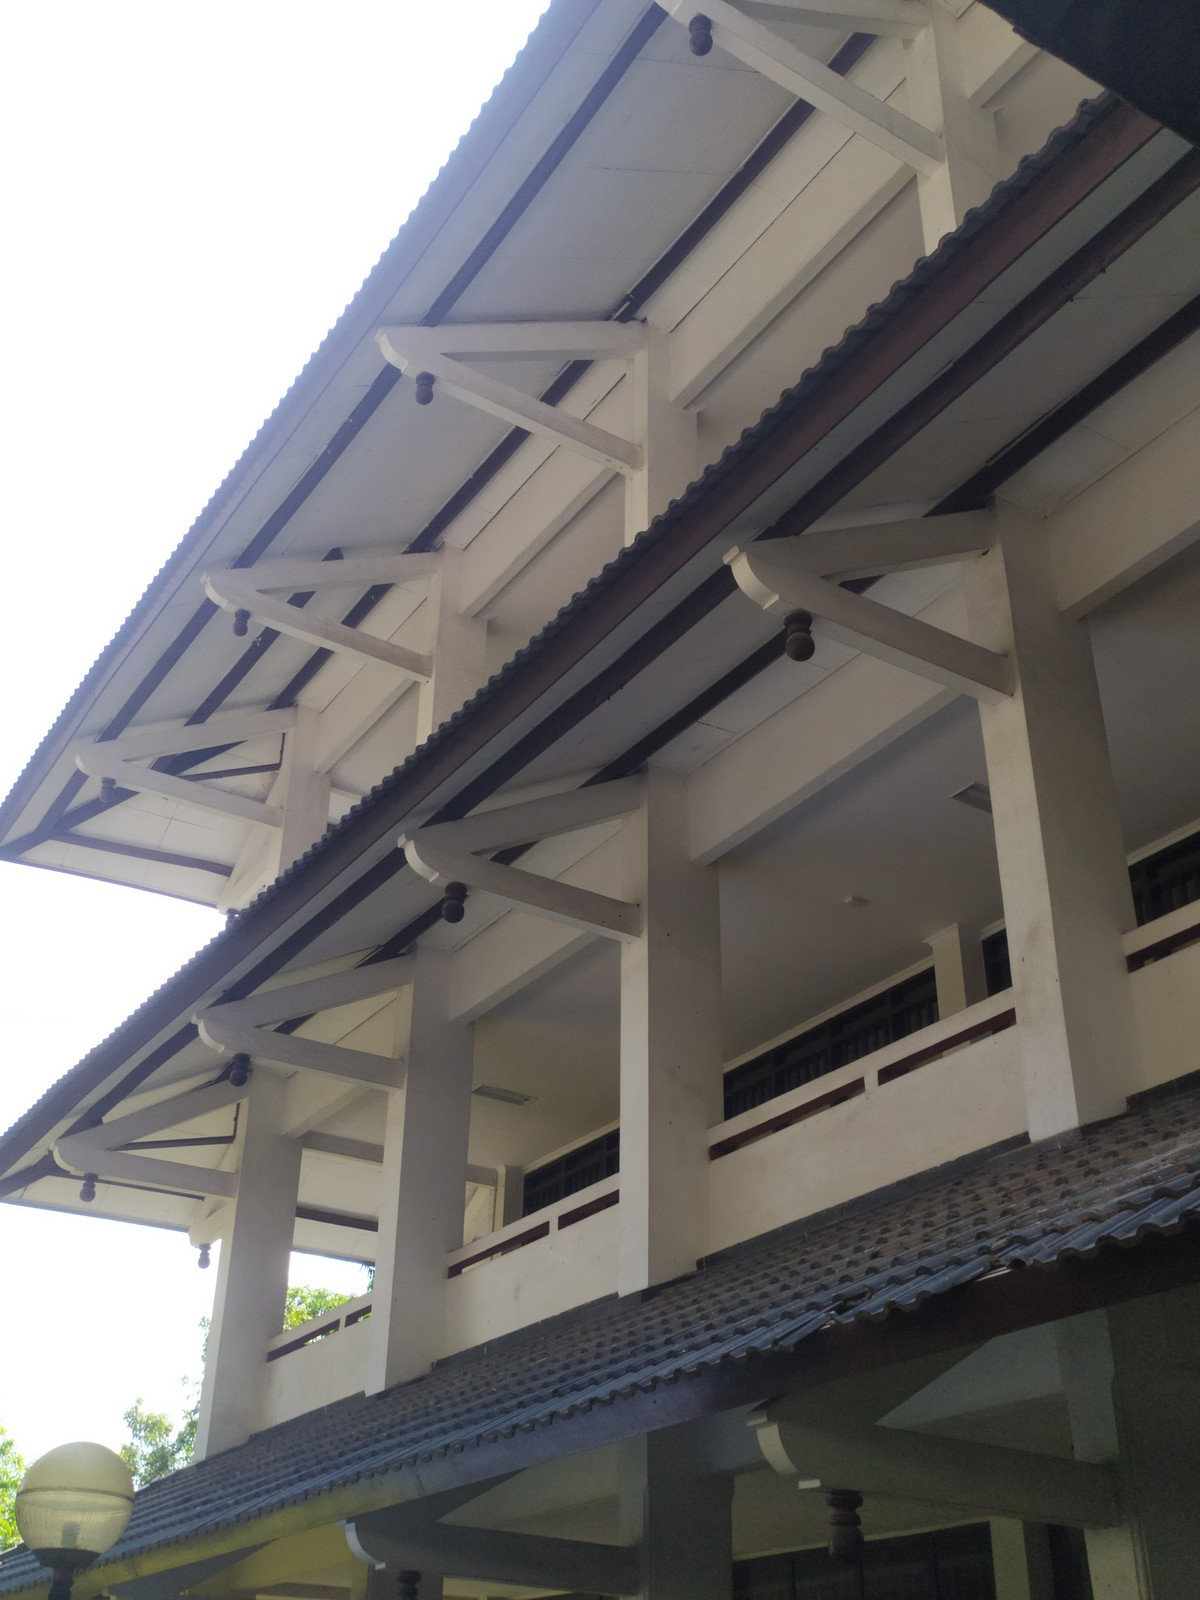concrete beam: (734, 38, 942, 170), (804, 593, 1024, 708), (458, 384, 644, 481), (480, 874, 653, 947), (268, 600, 430, 677), (248, 1038, 405, 1100)
concrete column: (979, 707, 1168, 1148), (610, 939, 747, 1294), (371, 1089, 475, 1396), (204, 1201, 296, 1453)
